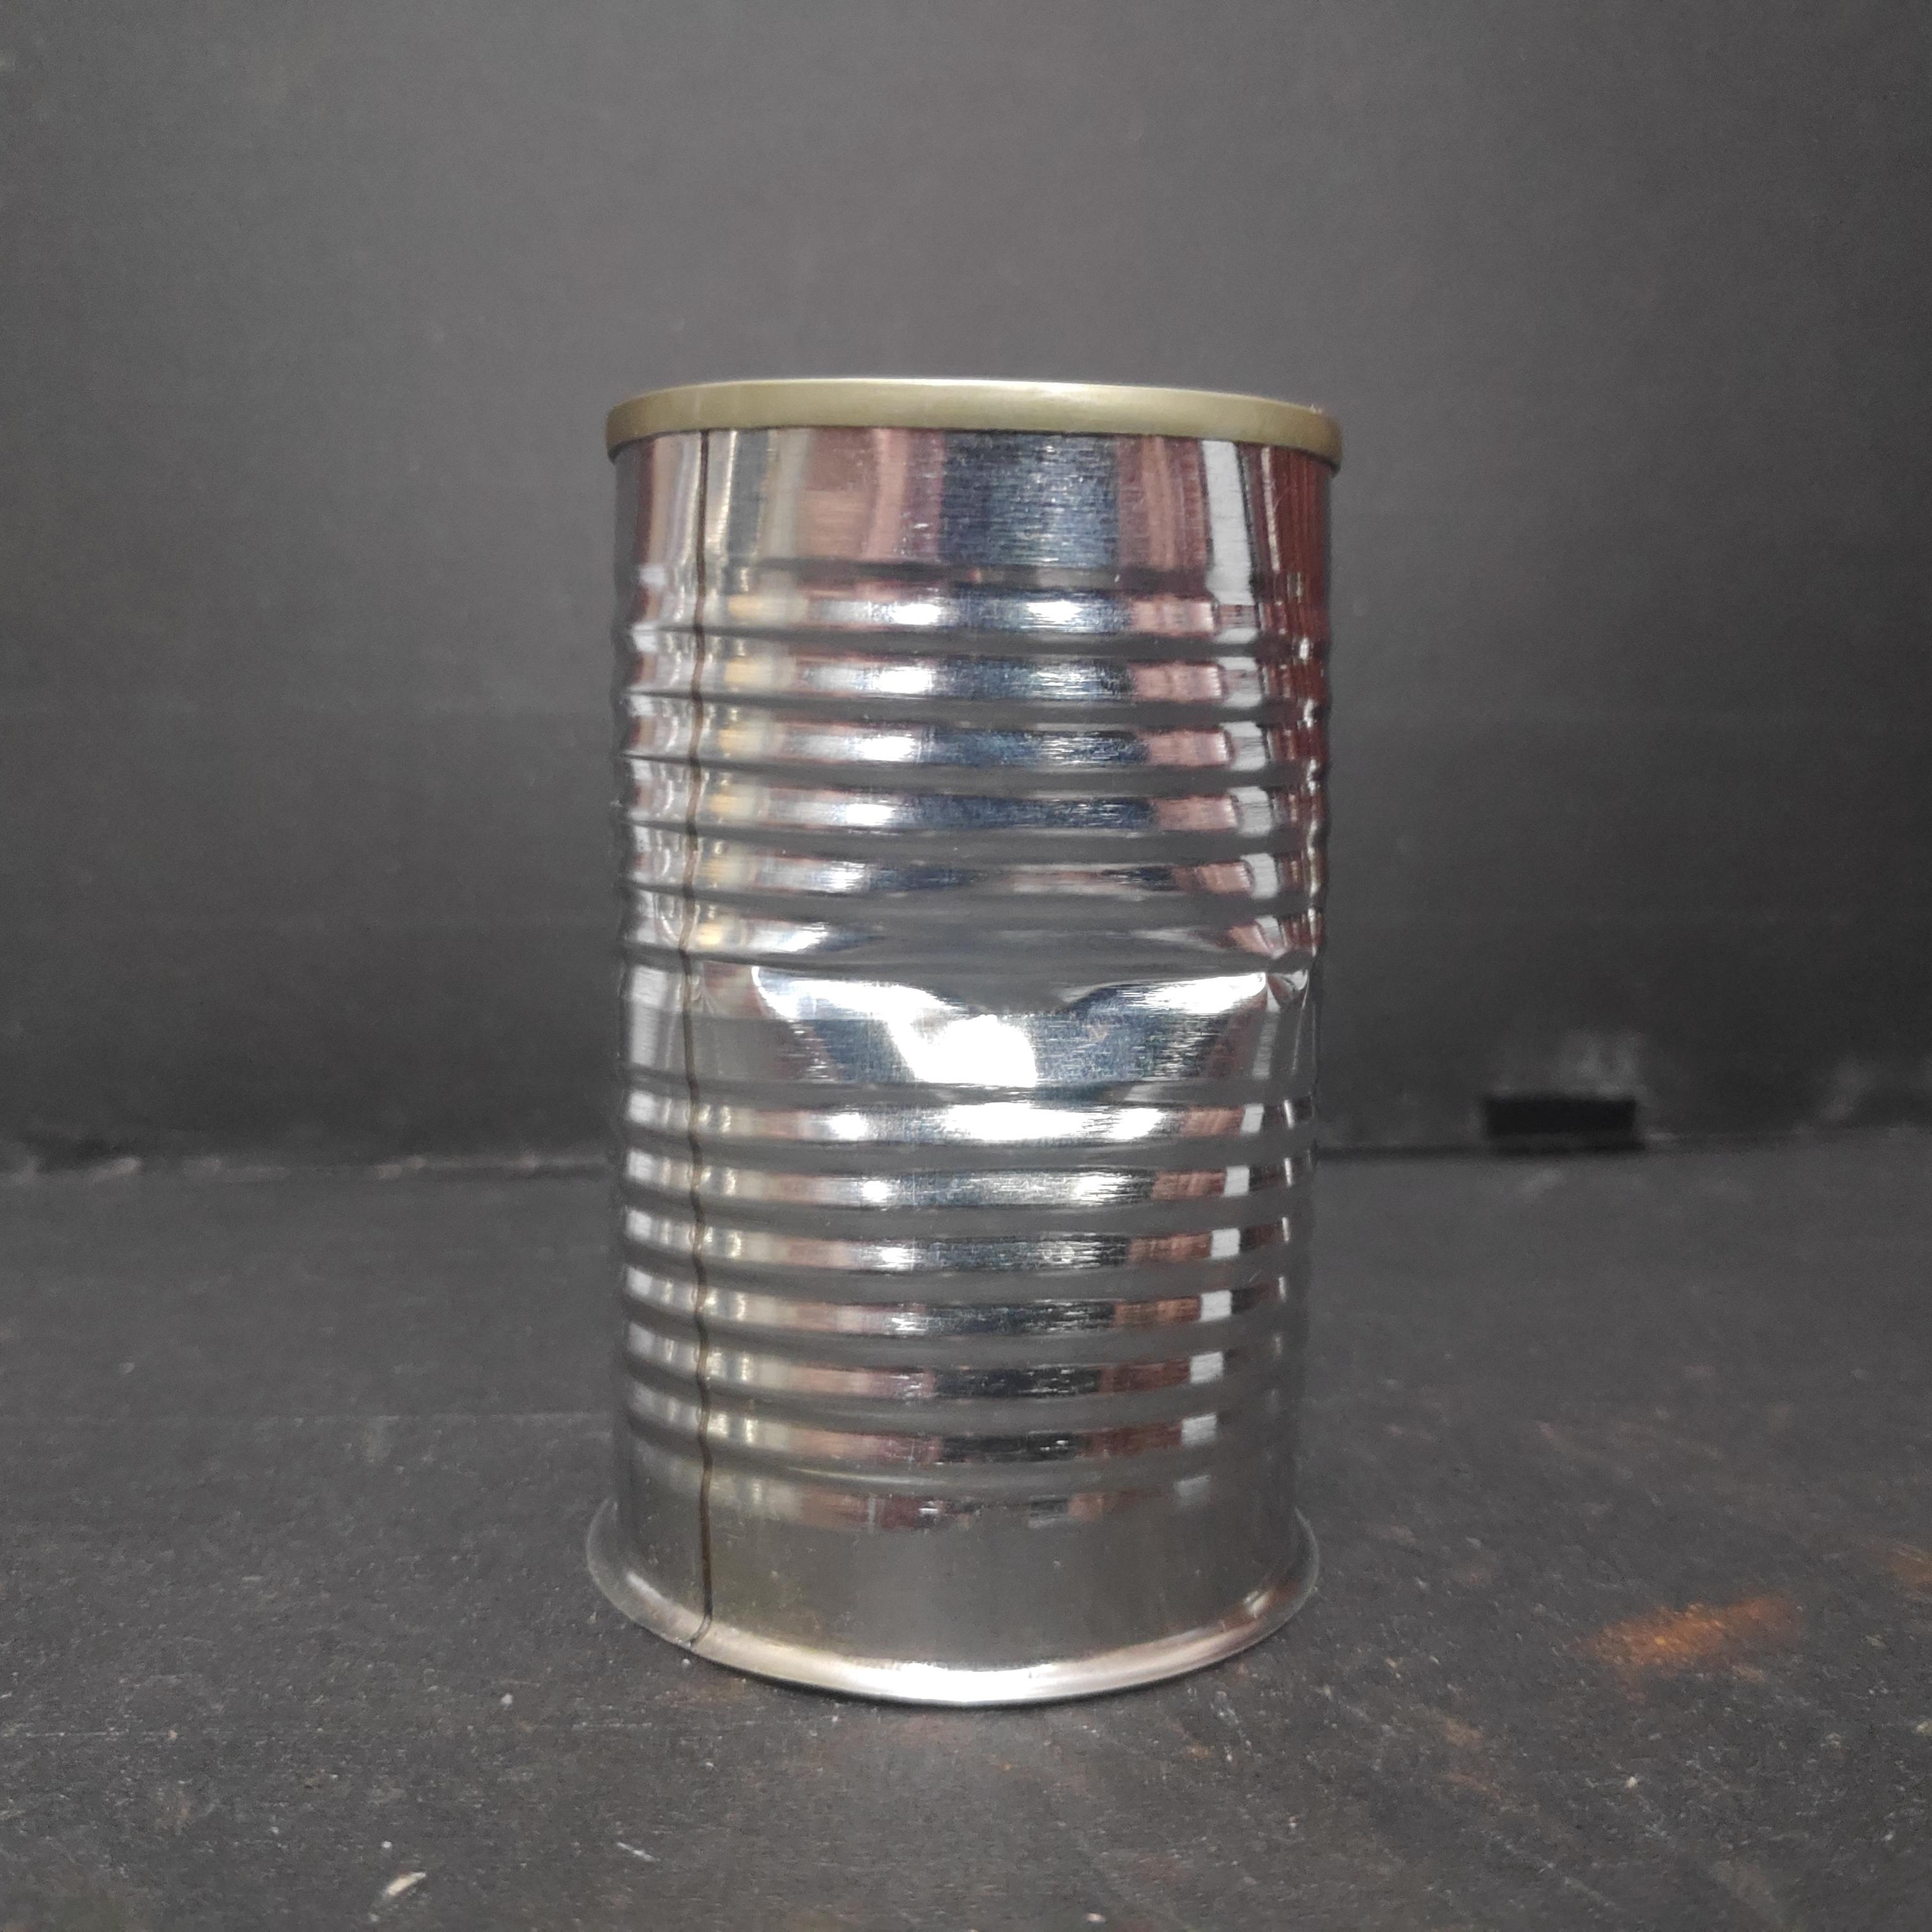Minor Defect: (593, 368, 1350, 1720)
